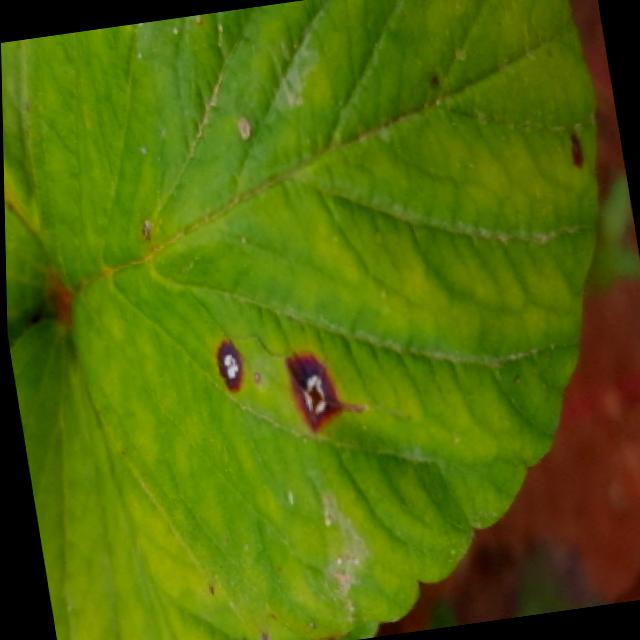Leaf Spot: (23, 0, 597, 640)
